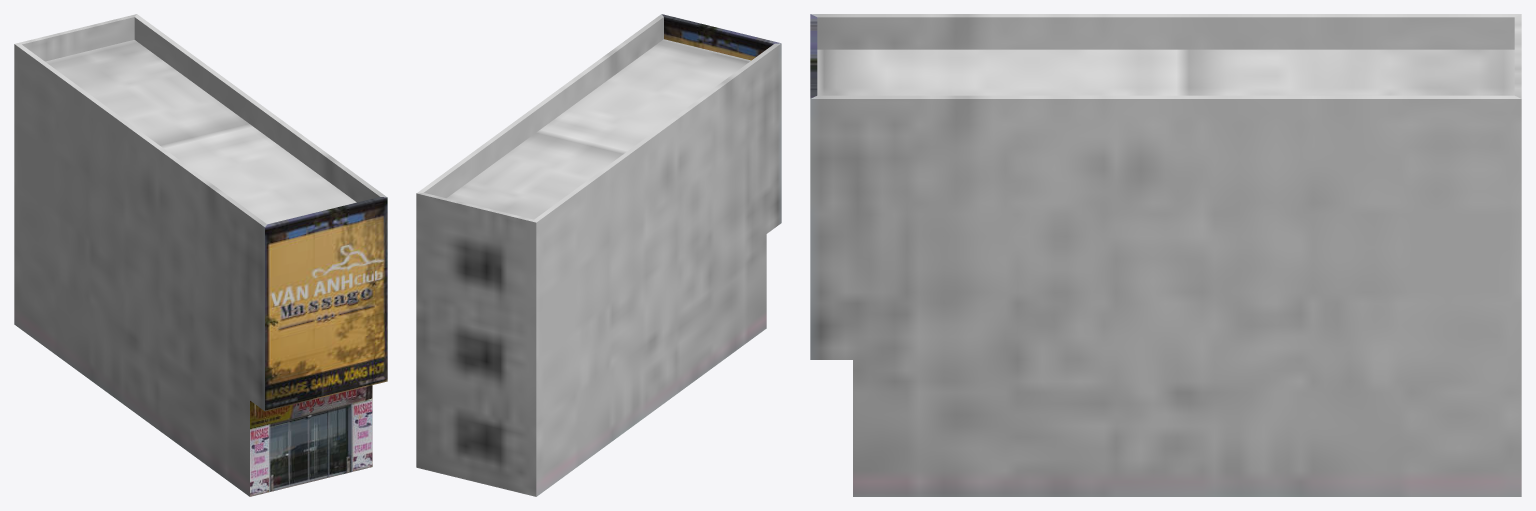
The picture shows the model from 3 angles, left to right: view 1: azimuth 30°, elevation 25°; view 2: azimuth 150°, elevation 25°; view 3: azimuth 270°, elevation 25°; orthographic projection. The views are drawn at different scales.
Parts seen in each view (by area): view 1: 5da92248eca4680ebc5f9a60.001; view 2: 5da92248eca4680ebc5f9a60.001; view 3: 5da92248eca4680ebc5f9a60.001.
Boxes of the visible parts, x1,y1,x2,y2 form: 5da92248eca4680ebc5f9a60.001: (14,14,387,496); 5da92248eca4680ebc5f9a60.001: (416,14,781,496); 5da92248eca4680ebc5f9a60.001: (810,14,1521,496).
Bounding box in the file's own units: 5.65 × 12.35 × 20.
1 material, 1 textured.
